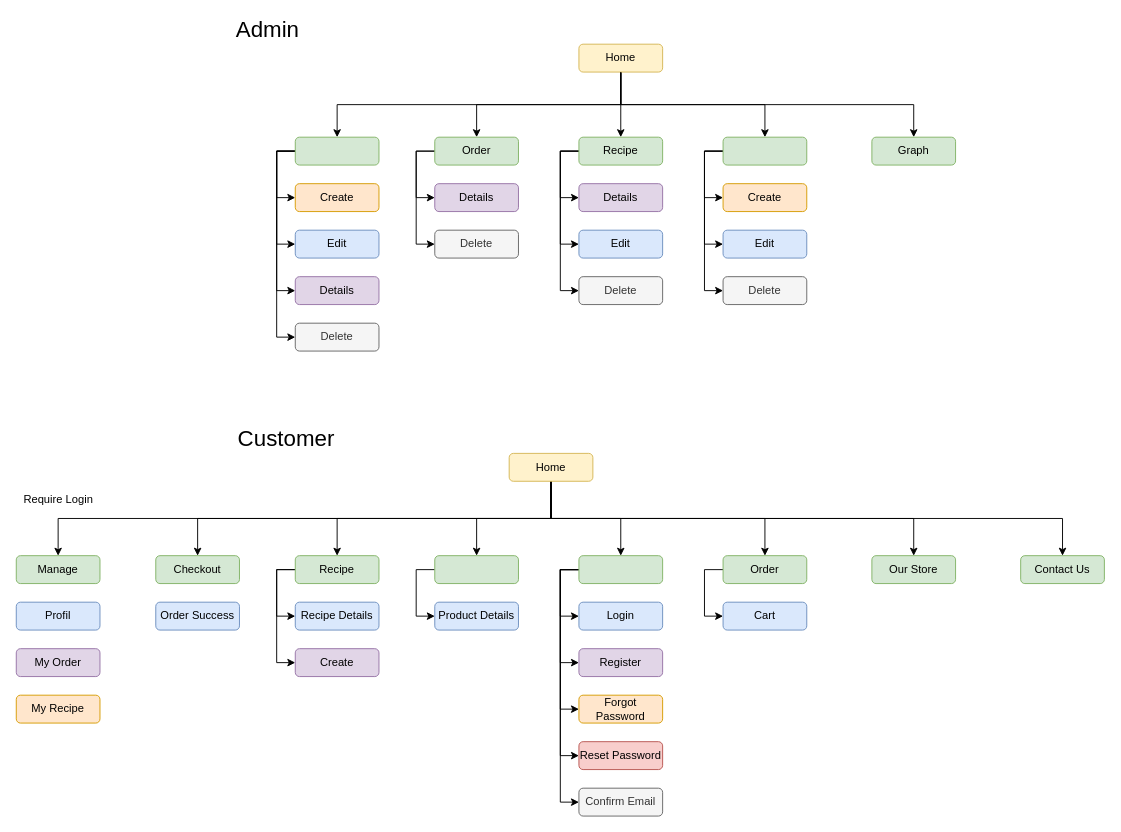
Some shapes in this 1121 by 832 pixel diagram are drawn without their labels. The shapes that lost their labels are listed below. From the top down, each one's centre as x and y in pixels, then its label:
At (x=336, y=150): "Product".
At (x=764, y=150): "Reward".
At (x=476, y=569): "Products".
At (x=620, y=569): "Account".
